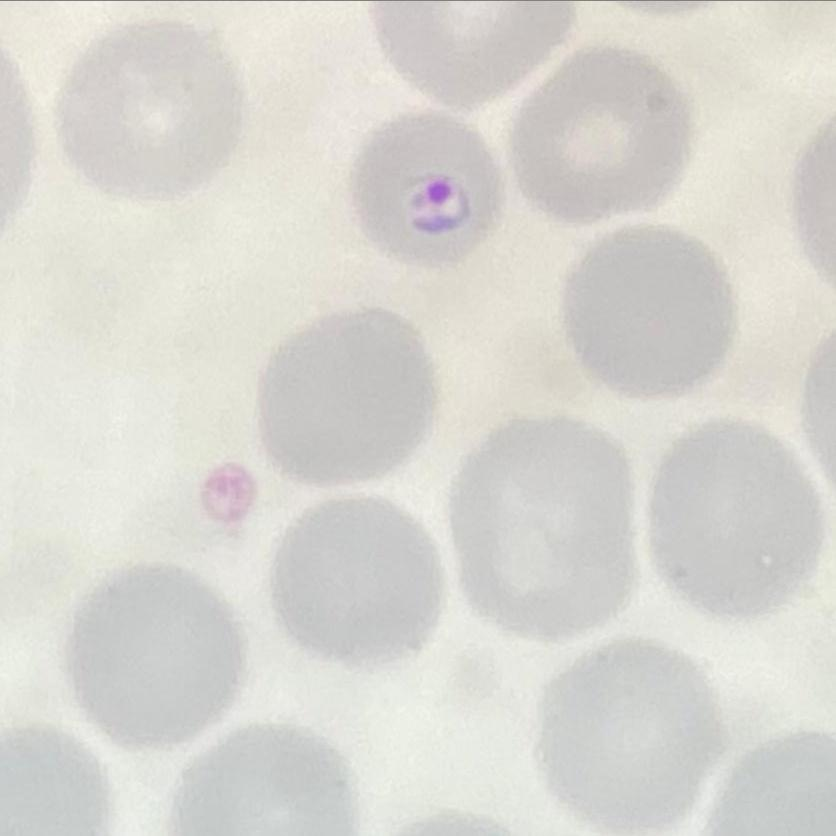Infected: (348, 109, 500, 275)
Uninfected: (453, 410, 638, 637), (537, 634, 720, 836), (643, 414, 820, 620), (63, 557, 252, 749), (50, 17, 243, 204), (508, 44, 695, 221), (253, 304, 434, 478), (562, 225, 742, 397), (275, 494, 442, 670), (168, 714, 358, 836), (370, 0, 575, 112)
